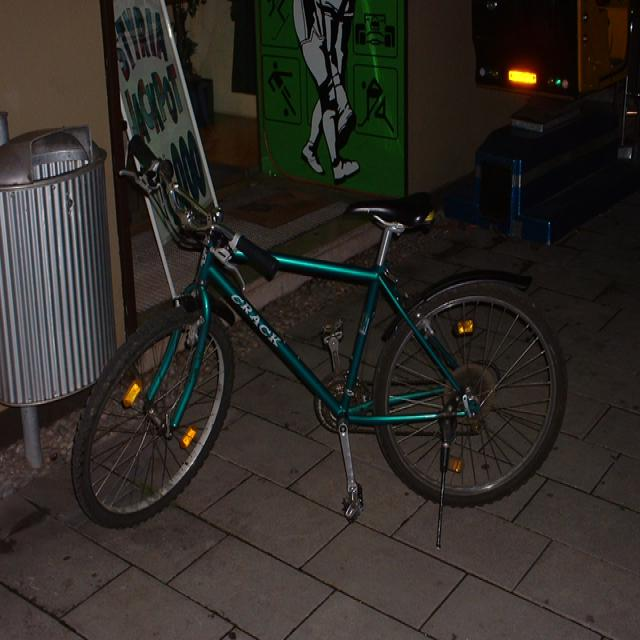bicycle: (69, 133, 568, 547)
